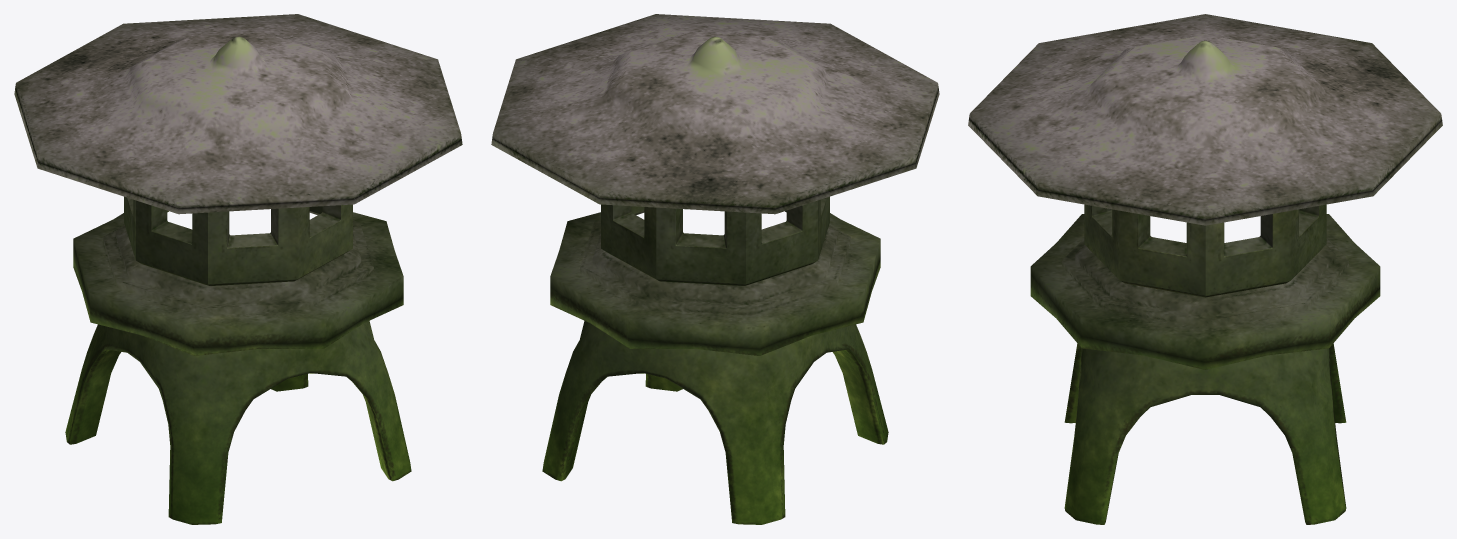
Rendered from stone_lantern.glb.
3 views of the same model, side by side, from view 1: azimuth 30°, elevation 25°; view 2: azimuth 150°, elevation 25°; view 3: azimuth 270°, elevation 25° (orthographic). The views are drawn at different scales.
Visible parts, largest first — view 1: Object_2; view 2: Object_2; view 3: Object_2.
Part boxes in pixels (x1,y1,x2,y2): Object_2: (14, 14, 462, 524); Object_2: (491, 14, 939, 524); Object_2: (968, 14, 1442, 524).
Bounding box in the file's own units: 1.18 × 1.16 × 1.18.
Materials: 1 (1 with a texture image).
